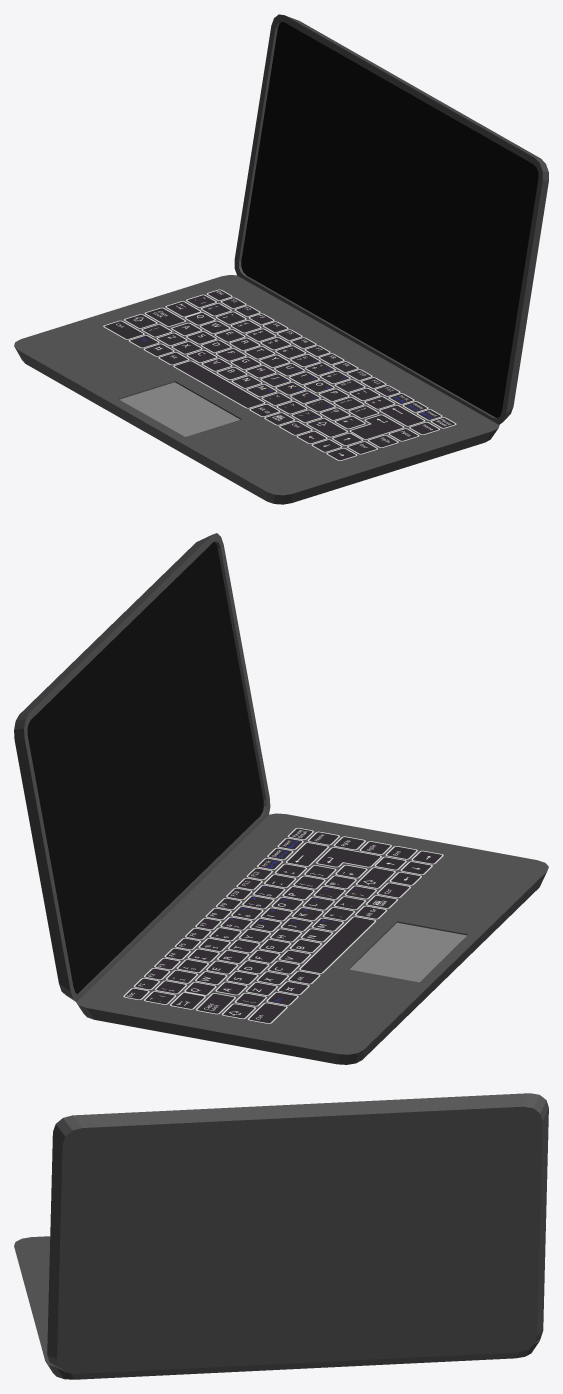
Rendered from Laptop.glb.
3 renders of one model, top to bottom at view 1: azimuth 30°, elevation 25°; view 2: azimuth 150°, elevation 25°; view 3: azimuth 270°, elevation 25°, orthographic. The views are drawn at different scales.
Parts seen in each view (by area): view 1: Laptop.002; view 2: Laptop.002; view 3: Laptop.002.
Part boxes in pixels (x1,y1,x2,y2): Laptop.002: (14, 14, 548, 504); Laptop.002: (14, 533, 548, 1064); Laptop.002: (14, 1093, 548, 1379).
Bounding box in the file's own units: 2.75 × 2.04 × 3.43.
4 materials, 1 textured.
